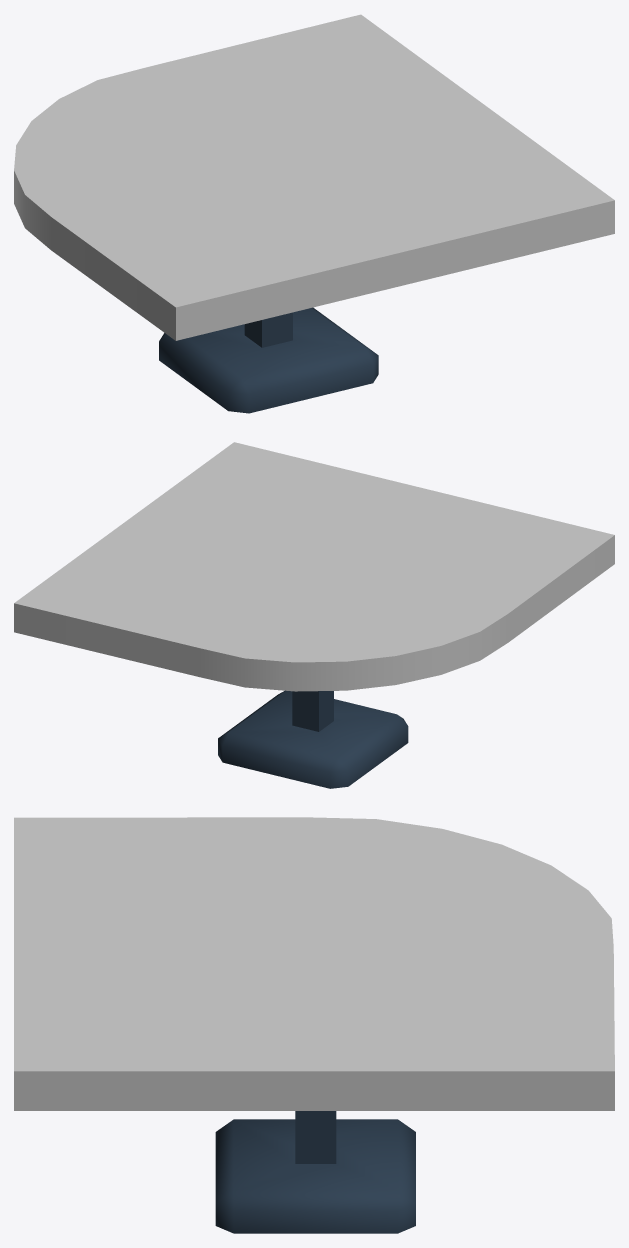
The model's file is Loca-Table-2.fbx.
3 renders of one model, top to bottom at view 1: azimuth 30°, elevation 25°; view 2: azimuth 150°, elevation 25°; view 3: azimuth 270°, elevation 25°, orthographic. The views are drawn at different scales.
Parts seen in each view (by area): view 1: Loca-Table-2; view 2: Loca-Table-2; view 3: Loca-Table-2.
Part boxes in pixels (<box>): Loca-Table-2: <box>14,14,614,413</box>; Loca-Table-2: <box>14,442,614,788</box>; Loca-Table-2: <box>14,817,614,1233</box>.
Size of the model in its own units: 2 by 0.9 by 2.
